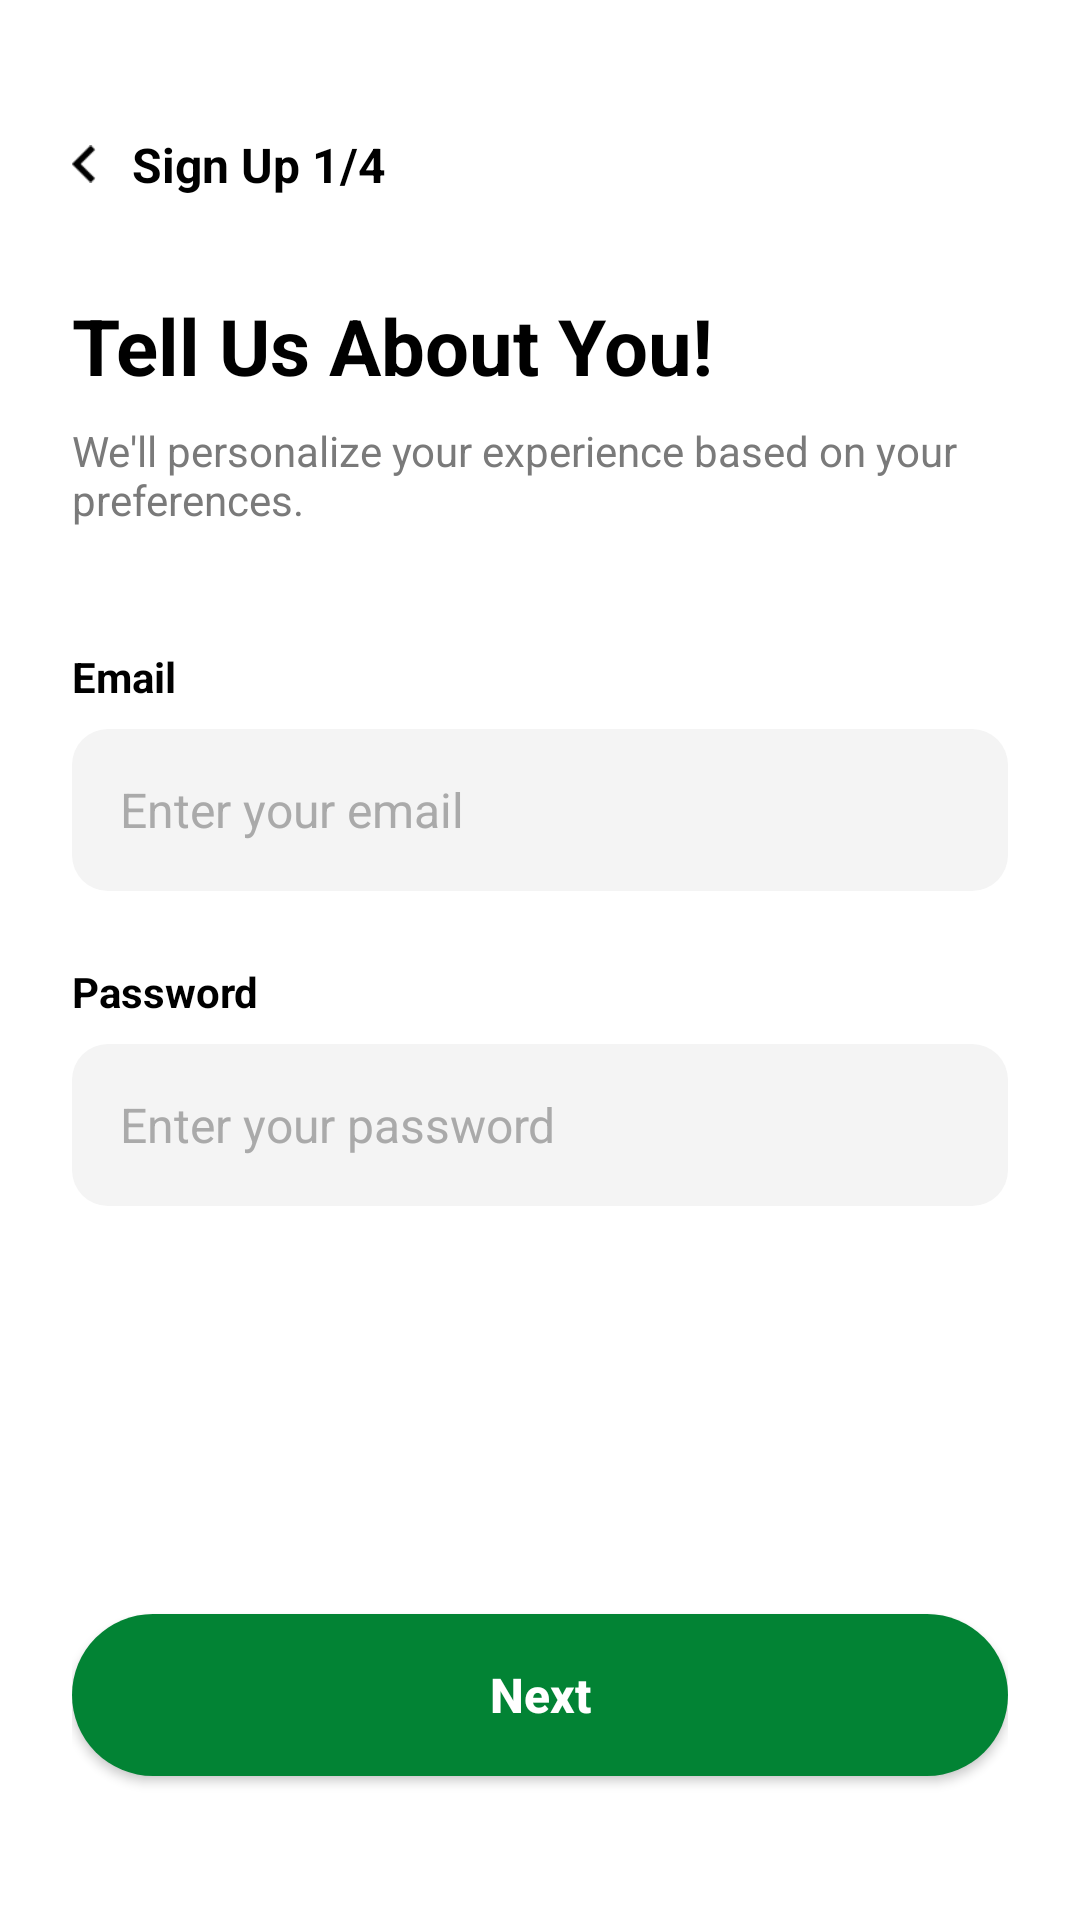

Icons on this 1080×1920 Android screen, each with its box as (x1, y1, x2, y2):
뒤로 가기: (72, 145, 95, 183)
